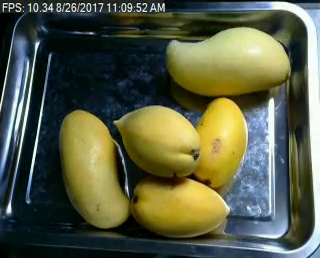Mango: (158, 24, 291, 97), (57, 109, 132, 229), (108, 97, 202, 177), (128, 173, 229, 237), (190, 91, 247, 188)
